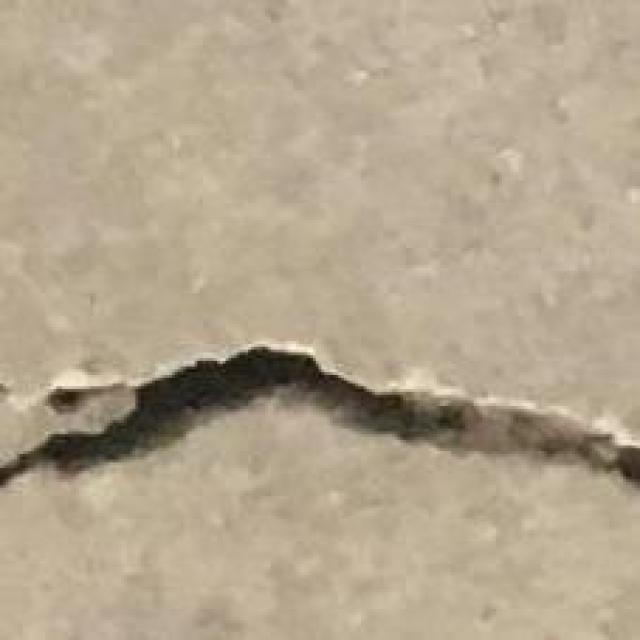branched cracks: (0, 344, 639, 486)
